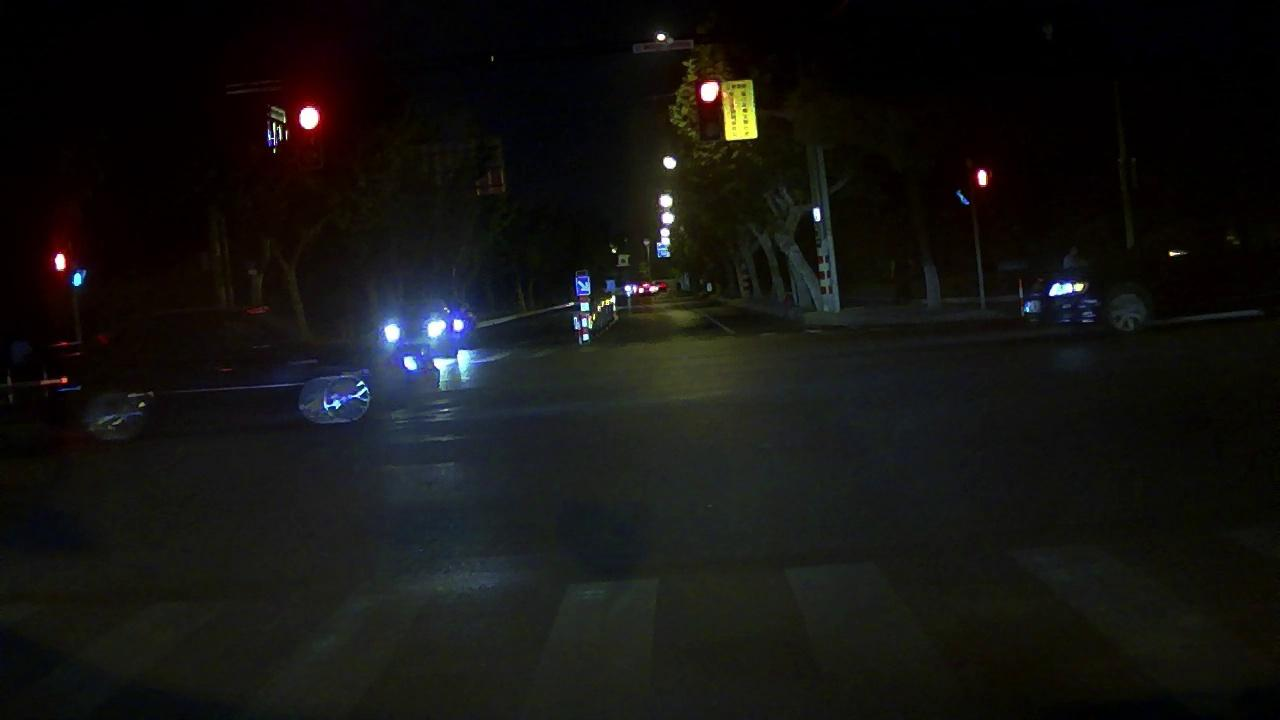traffic_light: (292, 100, 327, 135), (694, 70, 723, 109)
